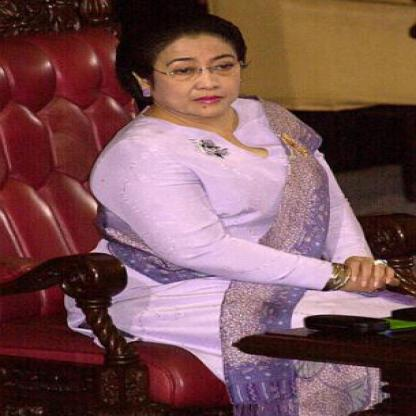face: (145, 21, 247, 119)
